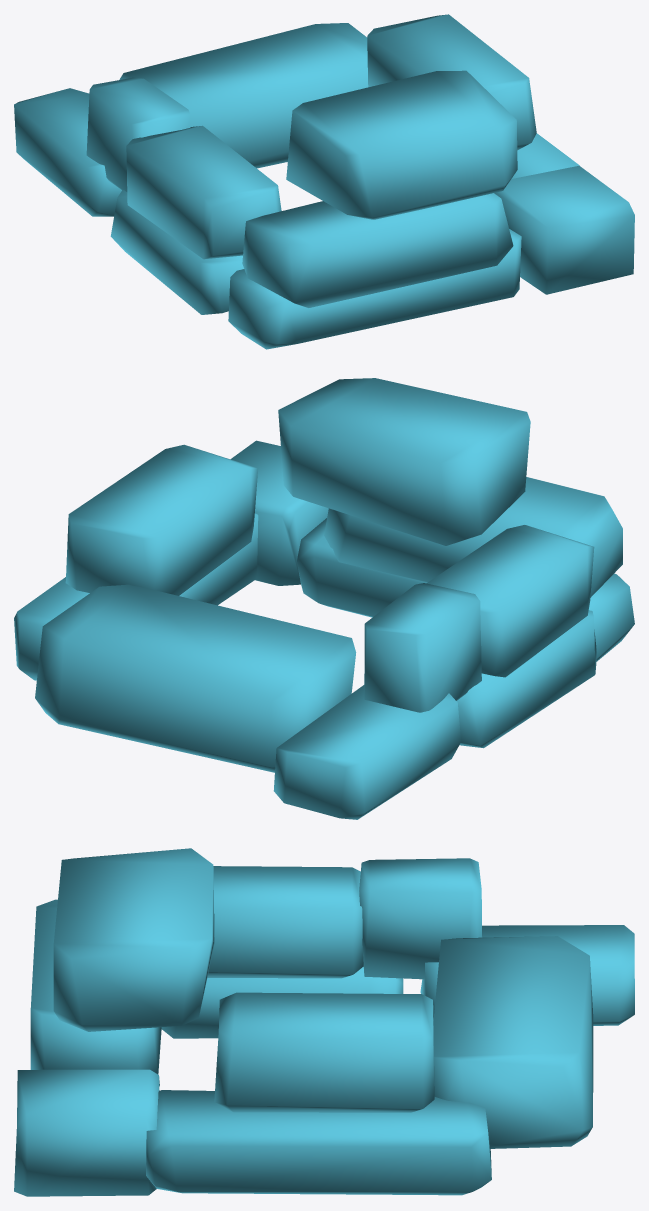
File: brick_wall_02.FBX
3 views of the same model, one above another, from view 1: azimuth 30°, elevation 25°; view 2: azimuth 150°, elevation 25°; view 3: azimuth 270°, elevation 25° (orthographic). The views are drawn at different scales.
Parts seen in each view (by area): view 1: brick_wall_02; view 2: brick_wall_02; view 3: brick_wall_02.
Boxes of the visible parts, x1,y1,x2,y2 form: brick_wall_02: [14, 14, 634, 349]; brick_wall_02: [14, 378, 634, 819]; brick_wall_02: [14, 848, 634, 1196].
Size of the model in its own units: 96.15 by 44.44 by 118.
